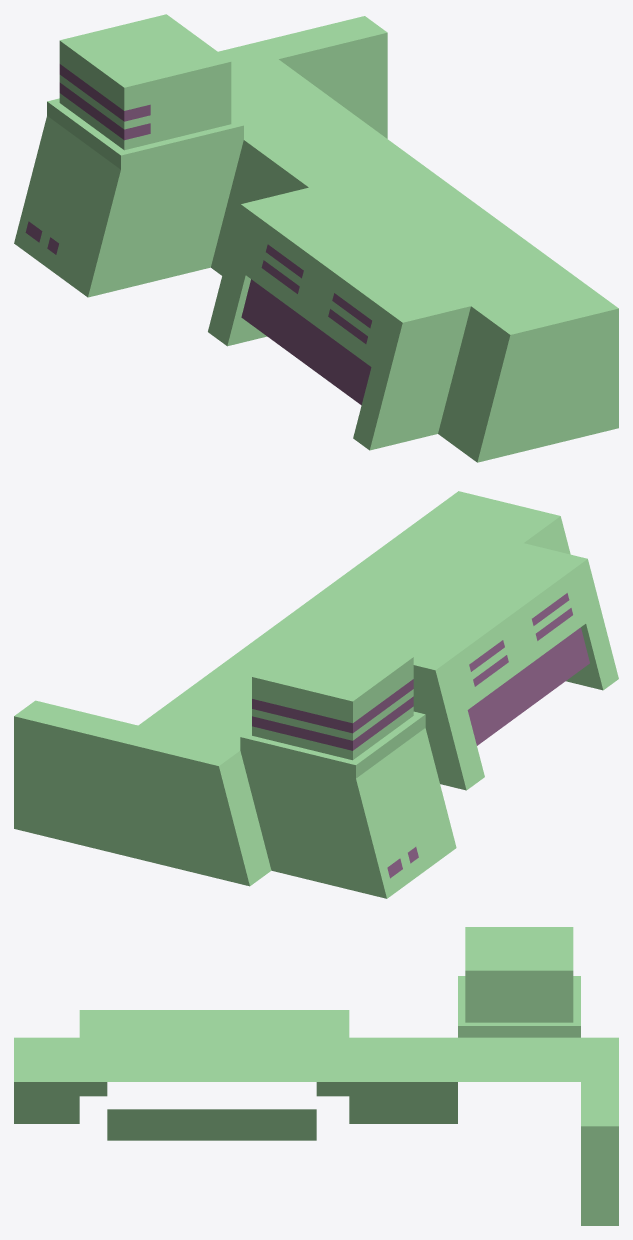
File: hangar.glb
3 renders of one model, top to bottom at view 1: azimuth 30°, elevation 25°; view 2: azimuth 150°, elevation 25°; view 3: azimuth 270°, elevation 25°, orthographic. The views are drawn at different scales.
Parts seen in each view (by area): view 1: hangar; view 2: hangar; view 3: hangar.
Part boxes in pixels (x1,y1,x2,y2): hangar: (14,14,618,462); hangar: (14,491,618,898); hangar: (14,927,618,1225).
Size of the model in its own units: 27.38 by 13.75 by 46.1.
